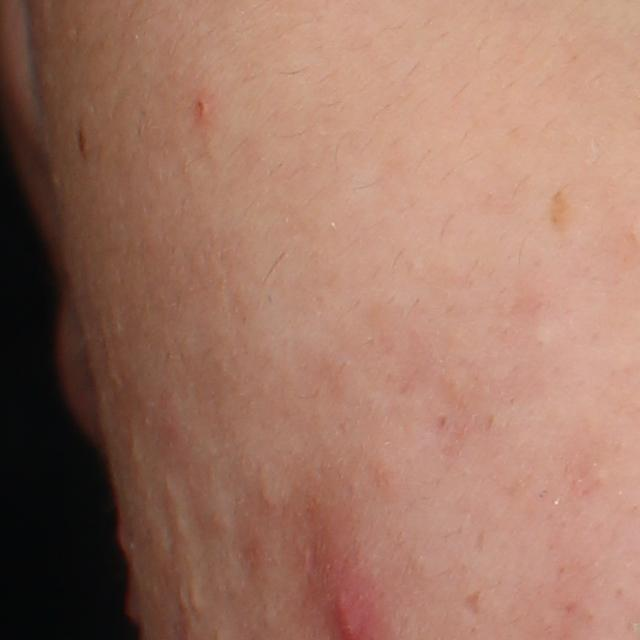atrophic_scar: (462, 588, 481, 618)
comedo: (199, 502, 236, 542), (256, 476, 279, 514), (188, 581, 206, 611)
melasma: (544, 186, 573, 242)
nevus: (73, 117, 90, 161)
papule: (196, 95, 211, 119)
